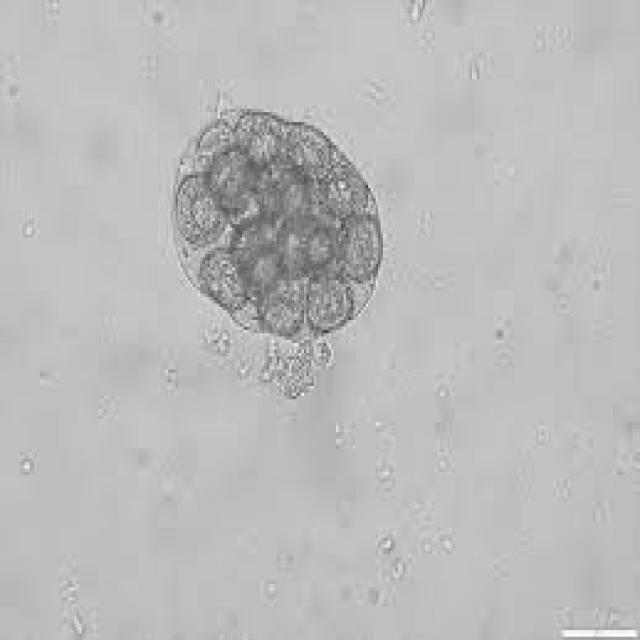Ancylostoma Spp: (163, 97, 395, 358)
